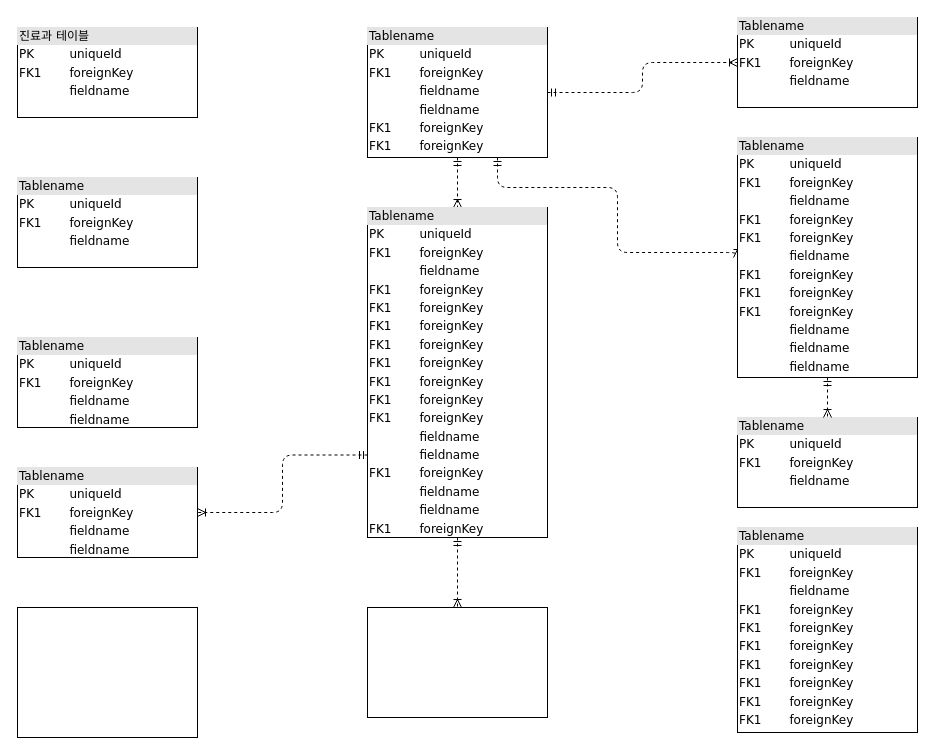
Some shapes in this 935 by 755 pixel diagram are drawn without their labels. The centre of each missing label's shape, as x and y in pixels:
"Tablename PK uniqueId FK1 foreignKey fieldname fieldname fieldname fieldname" goes at [107,672].
"Tablename PK uniqueId FK1 foreignKey fieldname fieldname FK1 foreignKey" goes at [457,662].
